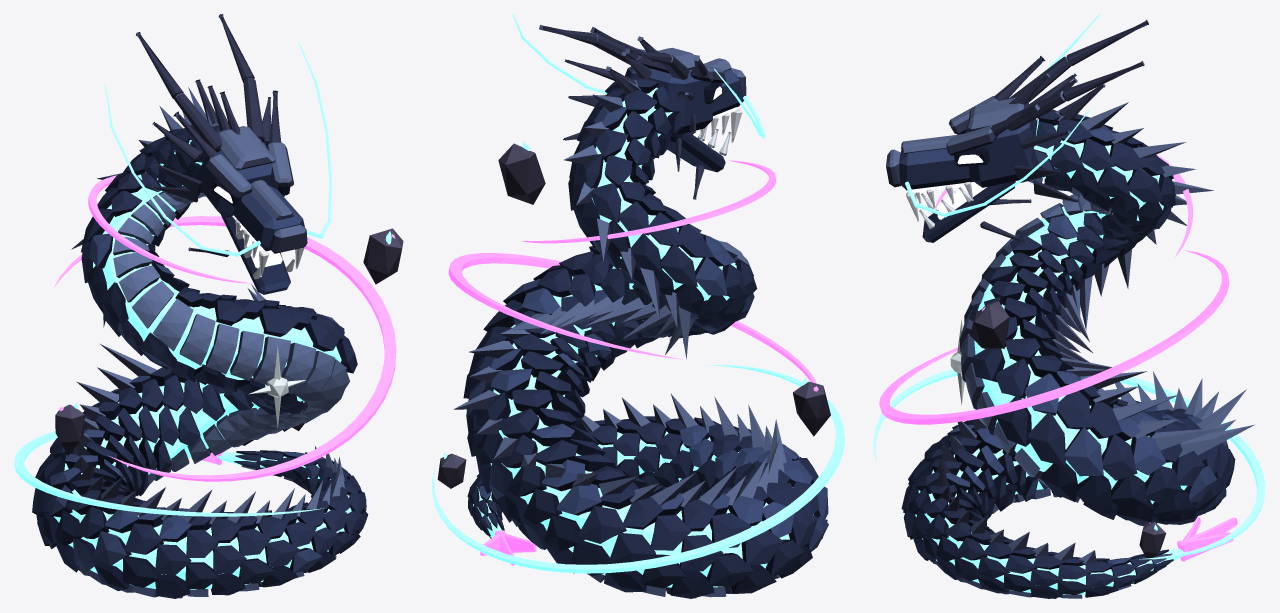
The model's file is OriginSerpent.fbx.
3 renders of one model, left to right at view 1: azimuth 30°, elevation 25°; view 2: azimuth 150°, elevation 25°; view 3: azimuth 270°, elevation 25°, orthographic. The views are drawn at different scales.
Visible parts, largest first — view 1: OriginSerpent_Body, OriginSerpent_Glow_50c4ff, OriginSerpent_Glow_a250ff, OriginSerpent_Glow_edf9ff; view 2: OriginSerpent_Body, OriginSerpent_Glow_50c4ff, OriginSerpent_Glow_a250ff; view 3: OriginSerpent_Body, OriginSerpent_Glow_50c4ff, OriginSerpent_Glow_a250ff, OriginSerpent_Glow_89e1ff.
Boxes of the visible parts, left/top/right/bottom form: OriginSerpent_Body: left=32, top=14, right=403, bottom=598; OriginSerpent_Glow_50c4ff: left=14, top=41, right=391, bottom=589; OriginSerpent_Glow_a250ff: left=53, top=175, right=396, bottom=481; OriginSerpent_Glow_edf9ff: left=248, top=345, right=306, bottom=428; OriginSerpent_Body: left=437, top=25, right=830, bottom=598; OriginSerpent_Glow_50c4ff: left=432, top=14, right=844, bottom=587; OriginSerpent_Glow_a250ff: left=448, top=160, right=818, bottom=565; OriginSerpent_Body: left=886, top=20, right=1254, bottom=598; OriginSerpent_Glow_50c4ff: left=873, top=14, right=1265, bottom=594; OriginSerpent_Glow_a250ff: left=879, top=154, right=1237, bottom=561; OriginSerpent_Glow_89e1ff: left=912, top=182, right=986, bottom=219.
Bounding box in the file's own units: 2.43 × 3.49 × 2.41.
Materials: 6 (1 with a texture image).
